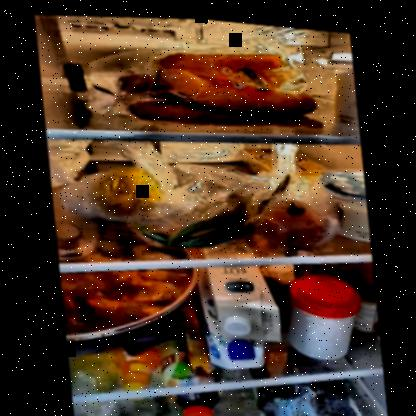carrot: (115, 33, 318, 132)
green_chillies: (128, 183, 266, 253)
lemon: (89, 161, 165, 218)
milk: (196, 257, 278, 367)
tomato: (260, 187, 332, 243)
yoghurt: (323, 161, 369, 237)
